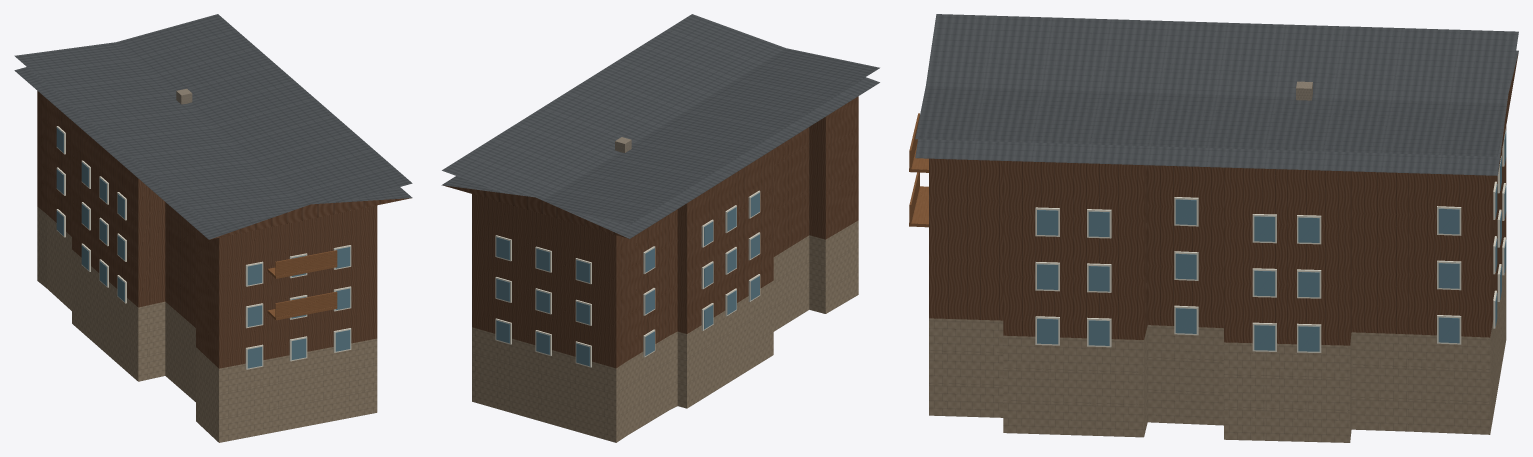
Rendered from core_0056.gltf.
3 renders of one model, left to right at view 1: azimuth 30°, elevation 25°; view 2: azimuth 150°, elevation 25°; view 3: azimuth 270°, elevation 25°, orthographic. The views are drawn at different scales.
Parts seen in each view (by area): view 1: core_0056; view 2: core_0056; view 3: core_0056.
Part boxes in pixels (<box>): core_0056: <box>14,14,412,442</box>; core_0056: <box>441,14,879,442</box>; core_0056: <box>909,14,1518,442</box>.
Bounding box in the file's own units: 16.04 × 15.65 × 28.97.
Materials: 7 (7 with a texture image).
